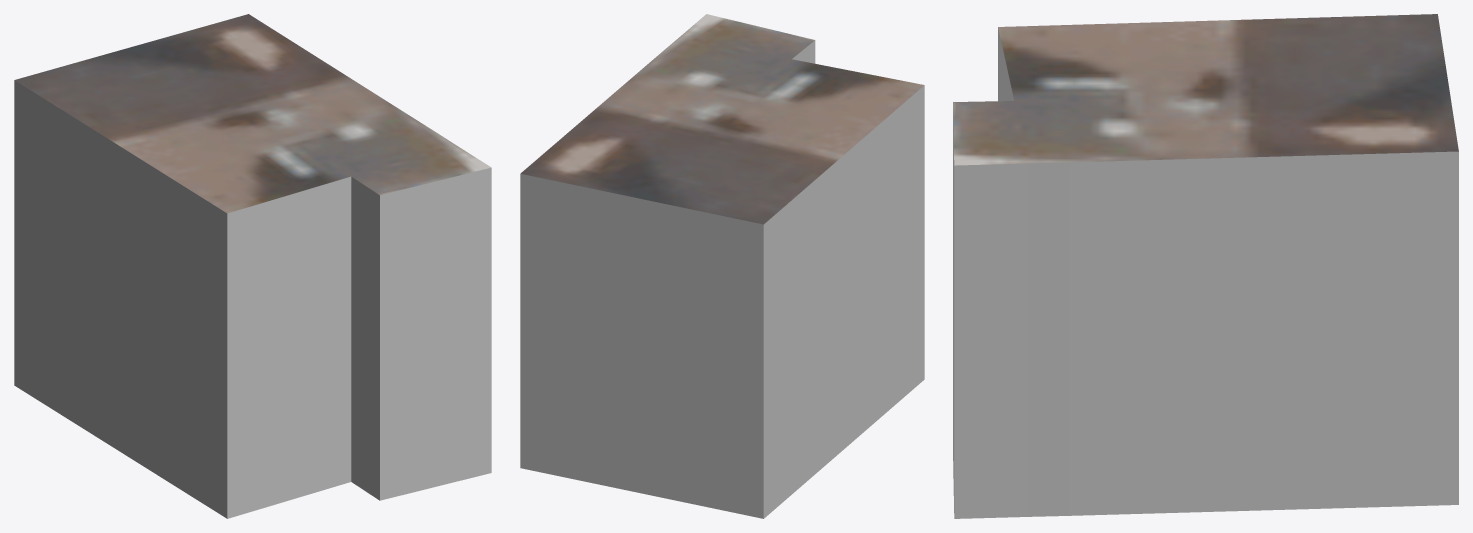
The model's file is DEBW_0010007Txa3.gltf.
The picture shows the model from 3 angles, left to right: view 1: azimuth 30°, elevation 25°; view 2: azimuth 150°, elevation 25°; view 3: azimuth 270°, elevation 25°; orthographic projection. The views are drawn at different scales.
Parts seen in each view (by area): view 1: Z_UP; view 2: Z_UP; view 3: Z_UP.
Boxes of the visible parts, x1,y1,x2,y2 form: Z_UP: (14, 14, 491, 518); Z_UP: (520, 14, 924, 518); Z_UP: (953, 14, 1458, 518).
Size of the model in its own units: 8.84 by 9.61 by 12.47.
Materials: 2 (1 with a texture image).
